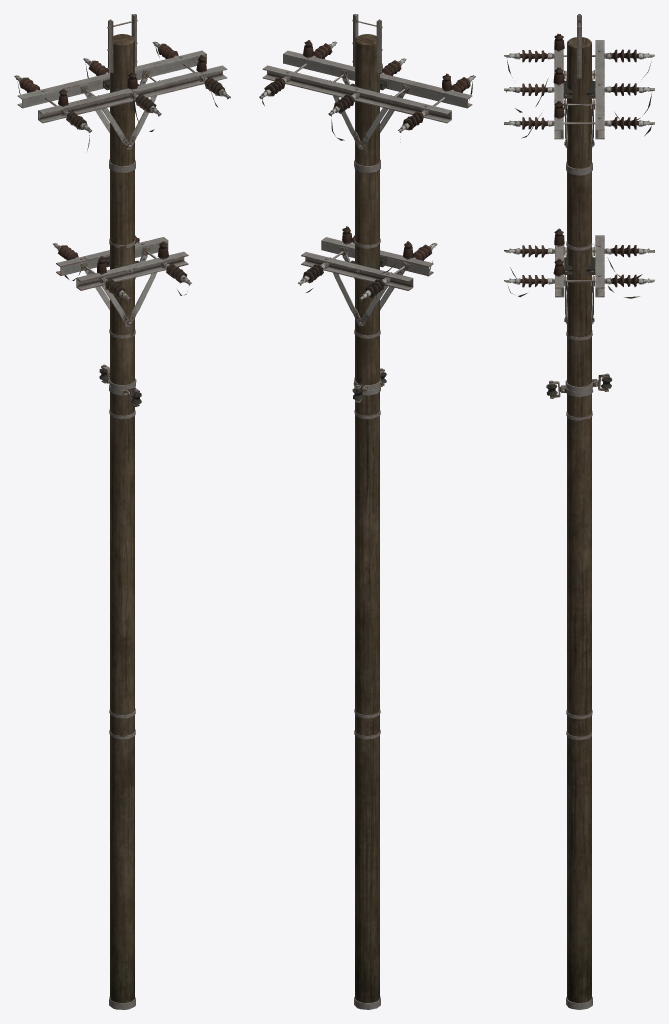
File: poteau_electrique_b_lod0.glb
3 views of the same model, side by side, from view 1: azimuth 30°, elevation 25°; view 2: azimuth 150°, elevation 25°; view 3: azimuth 270°, elevation 25° (orthographic).
Parts seen in each view (by area): view 1: preset_02_pole, preset_02_cap; view 2: preset_02_pole, preset_02_cap; view 3: preset_02_pole, preset_02_cap.
Boxes of the visible parts, x1,y1,x2,y2 form: preset_02_pole: (110,34,134,1002); preset_02_cap: (14,14,230,1009); preset_02_pole: (355,34,379,1002); preset_02_cap: (259,14,475,1009); preset_02_pole: (567,37,591,1002); preset_02_cap: (504,14,654,1009).
Bounding box in the file's own units: 1.2 × 6.13 × 0.8523.
2 materials, 2 textured.
